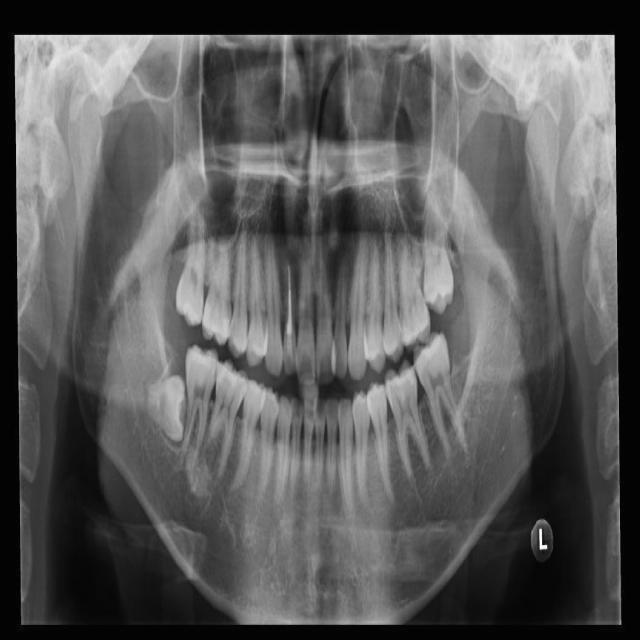Periapical lesion: (185, 445, 213, 496), (224, 473, 249, 499)
Root Canal Treatment: (287, 264, 292, 333)
impacted tooth: (129, 375, 185, 441)
